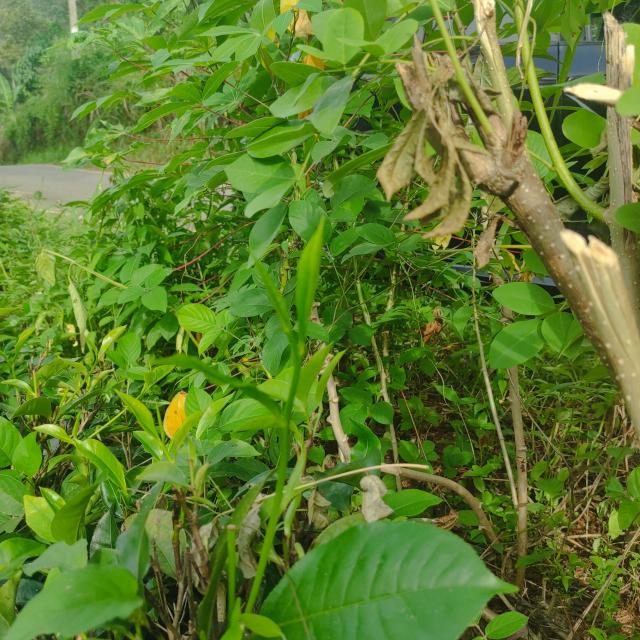unopened_leaf: (246, 240, 304, 357)
